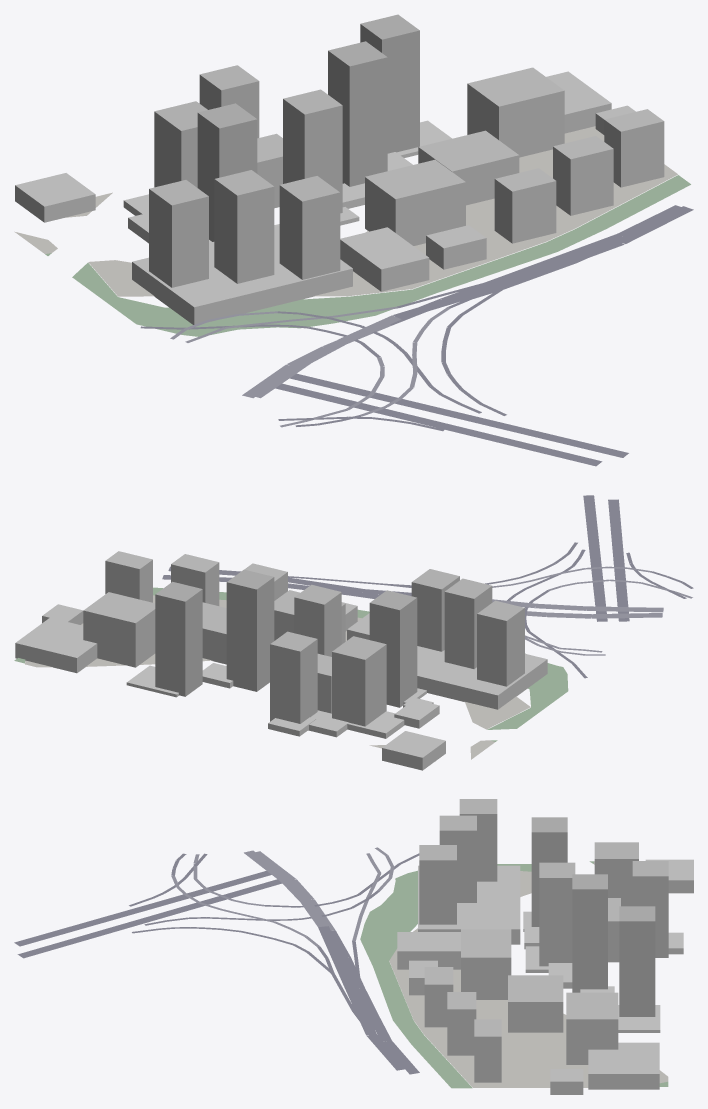
The model's file is 134_90_mid.glb.
3 renders of one model, top to bottom at view 1: azimuth 30°, elevation 25°; view 2: azimuth 150°, elevation 25°; view 3: azimuth 270°, elevation 25°, orthographic. The views are drawn at different scales.
Size of the model in its own units: 524 by 112 by 640.
